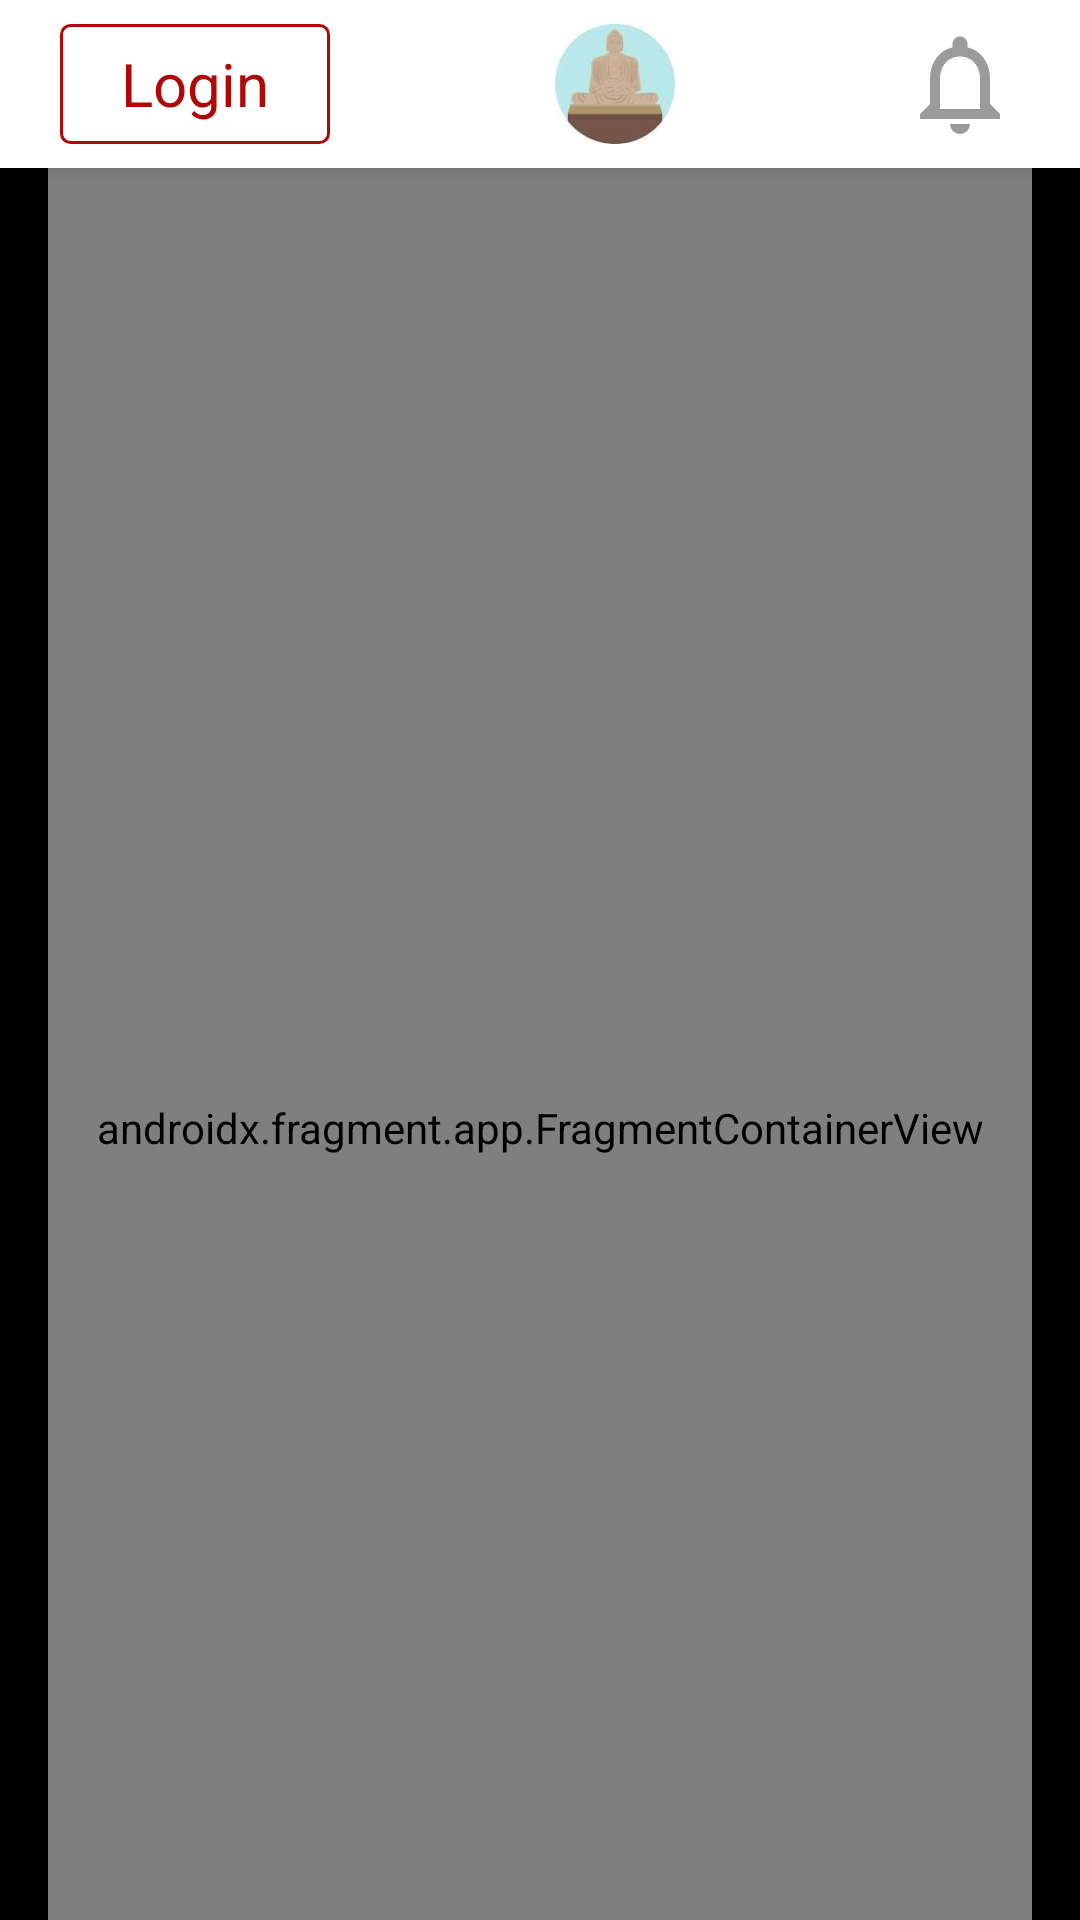

Icon click points for this 1080*1920 phone screenshot, format (x,y):
guru: (615,84)
notification: (960,85)
